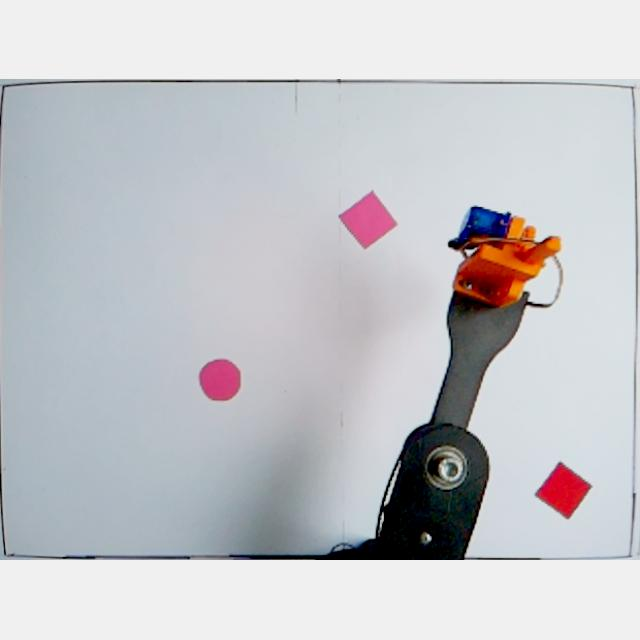pinkCircle: (199, 360, 243, 404)
pinkSquare: (338, 190, 398, 254)
redSquare: (534, 462, 594, 522)
